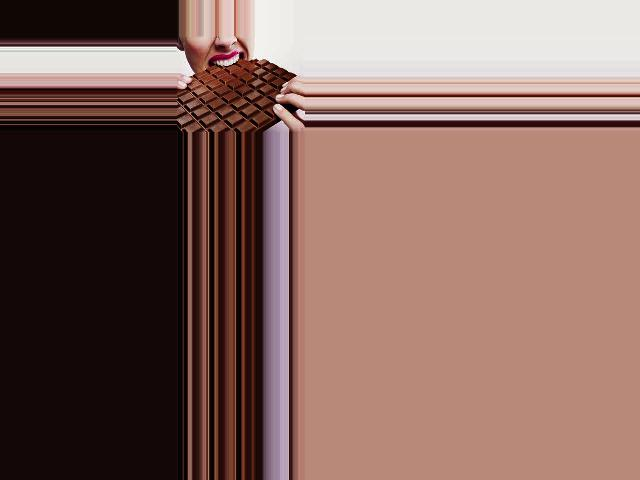chocolate: (177, 56, 305, 132)
